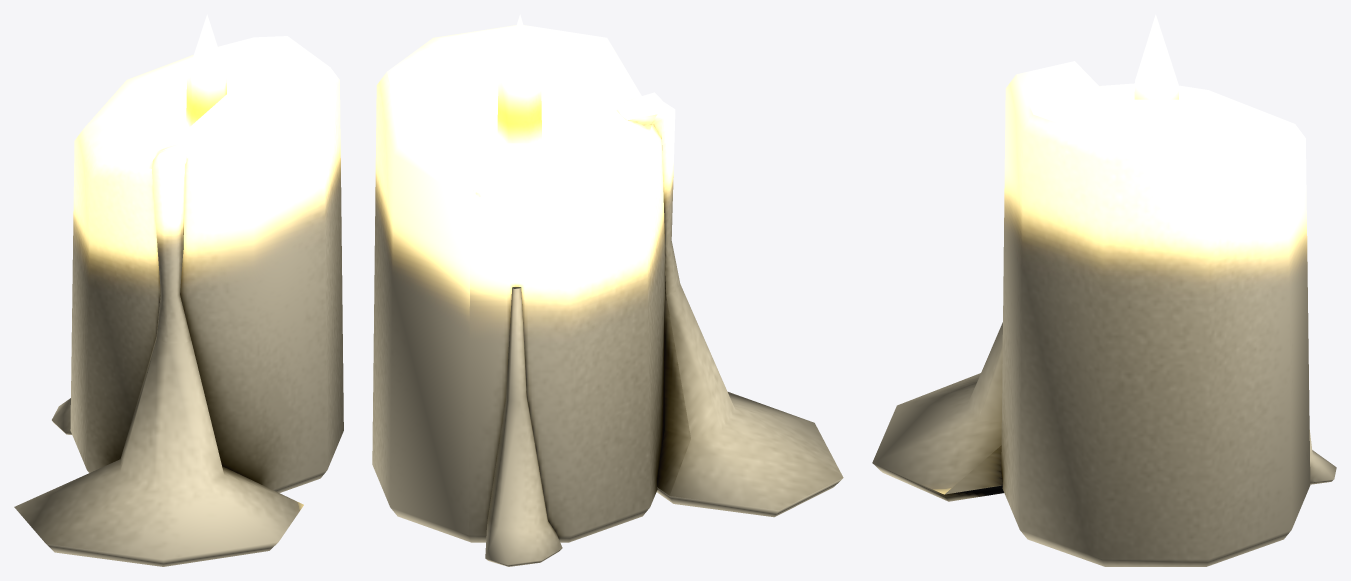
The model's file is short pillar candle.FBX.
3 views of the same model, side by side, from view 1: azimuth 30°, elevation 25°; view 2: azimuth 150°, elevation 25°; view 3: azimuth 270°, elevation 25° (orthographic). The views are drawn at different scales.
Visible parts, largest first — view 1: short thick candle; view 2: short thick candle; view 3: short thick candle.
Part boxes in pixels (x1,y1,x2,y2): short thick candle: (14, 14, 343, 566); short thick candle: (372, 14, 843, 566); short thick candle: (872, 14, 1336, 566).
Size of the model in its own units: 0.0964 by 0.1174 by 0.0999.
Materials: 1 (1 with a texture image).
